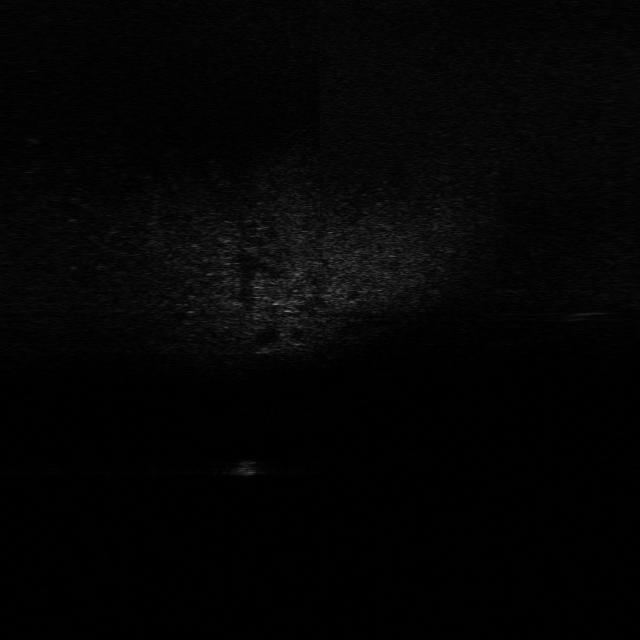cylinder: (238, 456, 261, 481)
